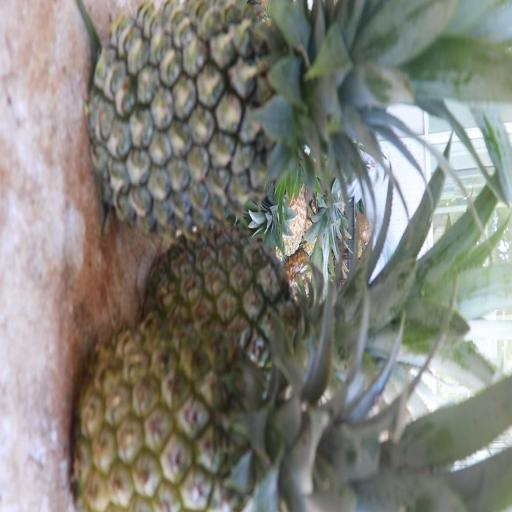------------------------------: (70, 315, 402, 512), (136, 221, 373, 407)
